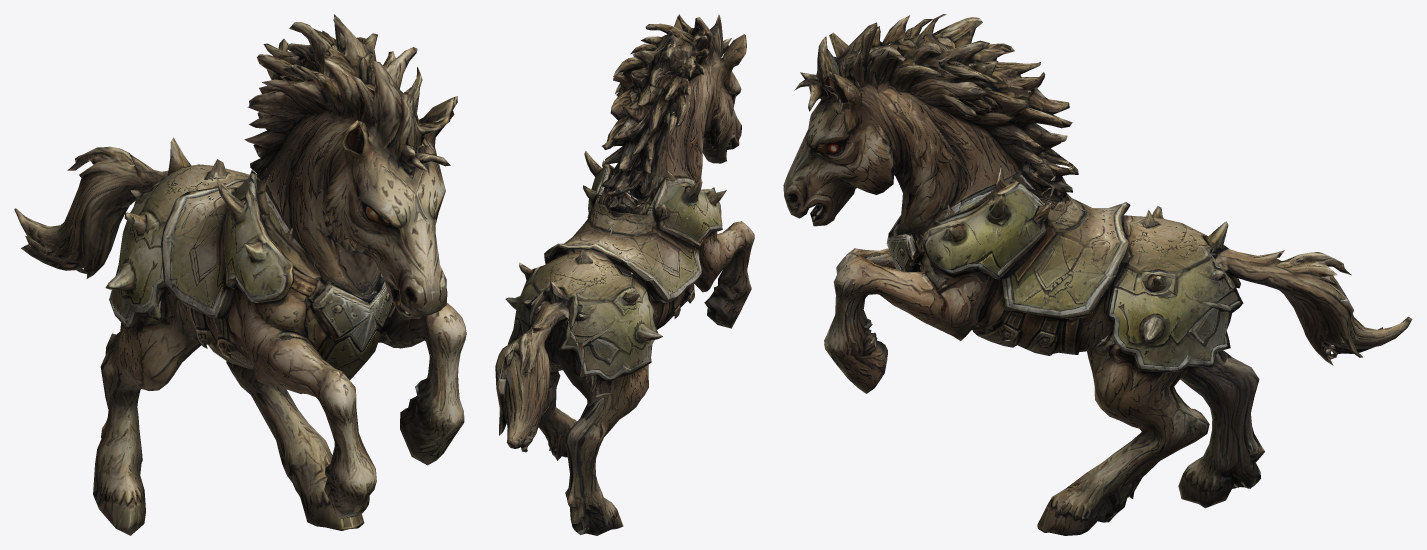
File: Foal.fbx
3 views of the same model, side by side, from view 1: azimuth 30°, elevation 25°; view 2: azimuth 150°, elevation 25°; view 3: azimuth 270°, elevation 25° (orthographic). The views are drawn at different scales.
Visible parts, largest first — view 1: texture_mapping; view 2: texture_mapping; view 3: texture_mapping.
Part boxes in pixels (x1=…): texture_mapping: x1=14, y1=14, x2=466, y2=535; texture_mapping: x1=495, y1=14, x2=754, y2=535; texture_mapping: x1=783, y1=14, x2=1412, y2=535.
Size of the model in its own units: 0.3538 by 0.9966 by 0.8959.
1 material, 1 textured.
